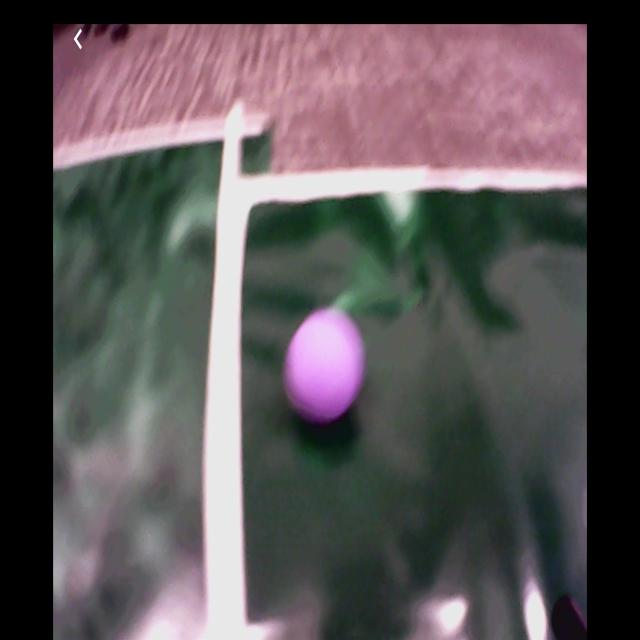ball: (288, 311, 365, 420)
